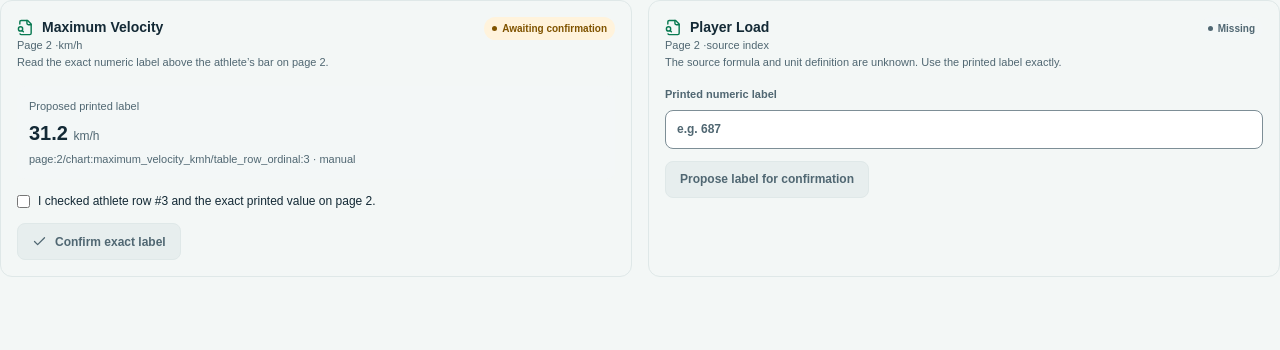
manual chart review › shows a confirmation failure and leaves the proposal pending
The width and height of the screenshot is (1280, 350).
Click the checkbox at point(24, 202), box x1=17 y1=195 x2=30 y2=208
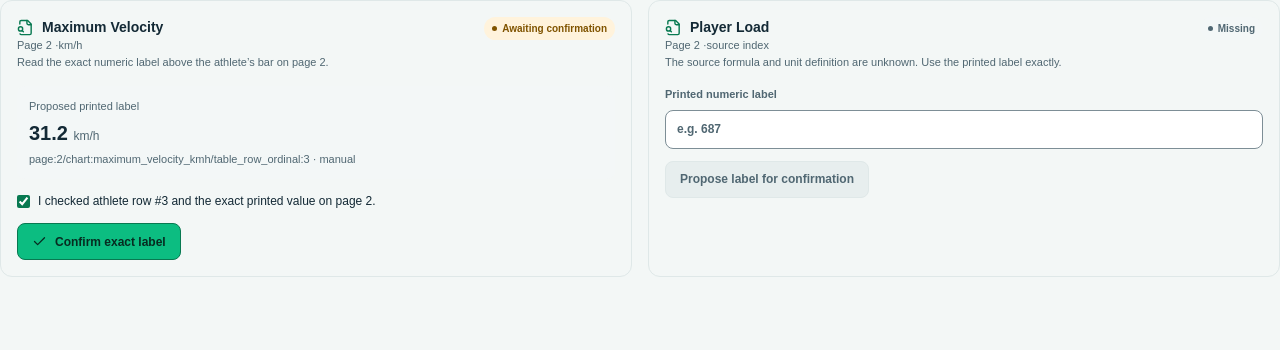
Click the button "Confirm exact label" at point(99, 242), box x1=17 y1=223 x2=181 y2=260
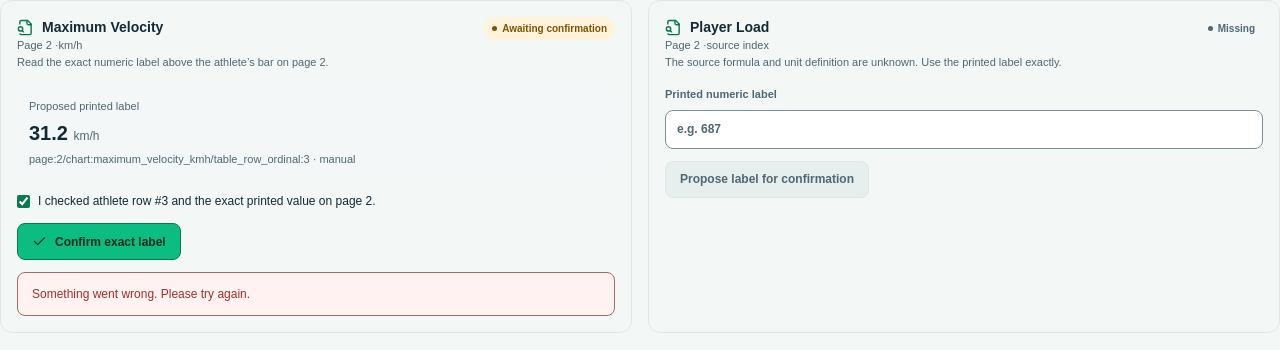
Expected: the text "31.2" is shown, x1=29 y1=122 x2=68 y2=144
Expected: the message reads "Something went wrong. Please try again.", x1=32 y1=287 x2=250 y2=301
